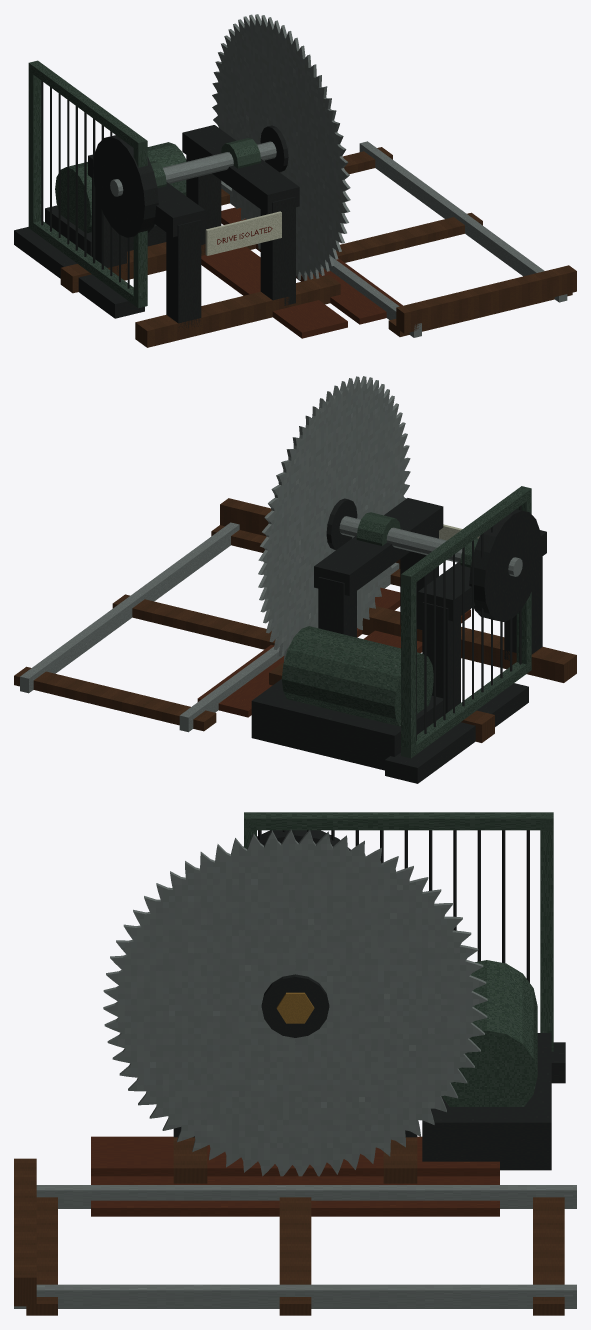
Rendered from level_work_circular_headrig.glb.
3 renders of one model, top to bottom at view 1: azimuth 30°, elevation 25°; view 2: azimuth 150°, elevation 25°; view 3: azimuth 270°, elevation 25°, orthographic. The views are drawn at different scales.
Visible parts, largest first — view 1: level_work_circular_headrig; view 2: level_work_circular_headrig; view 3: level_work_circular_headrig.
Boxes of the visible parts, left/top/right/bottom form: level_work_circular_headrig: left=14, top=14, right=576, bottom=347; level_work_circular_headrig: left=14, top=376, right=576, bottom=783; level_work_circular_headrig: left=14, top=812, right=576, bottom=1315.
Size of the model in its own units: 3.24 by 2.06 by 3.
8 materials, 8 textured.
